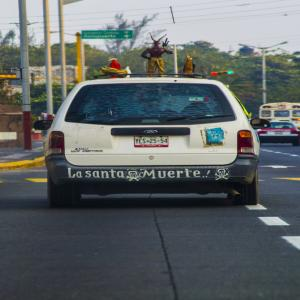Vehicle-registration-plate: (135, 136, 169, 148)
